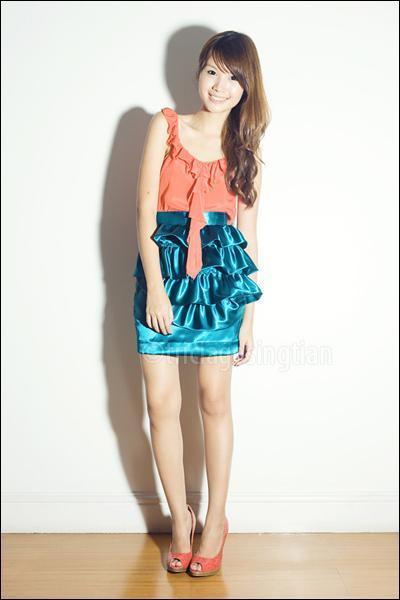shirt: (156, 100, 243, 279)
shoe: (163, 540, 221, 578)
skirt: (132, 192, 262, 356)
